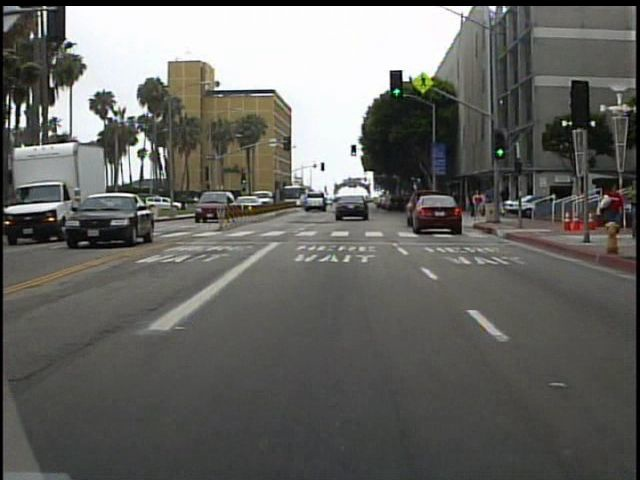person: (469, 187, 485, 223), (483, 183, 497, 220), (498, 183, 513, 217)
